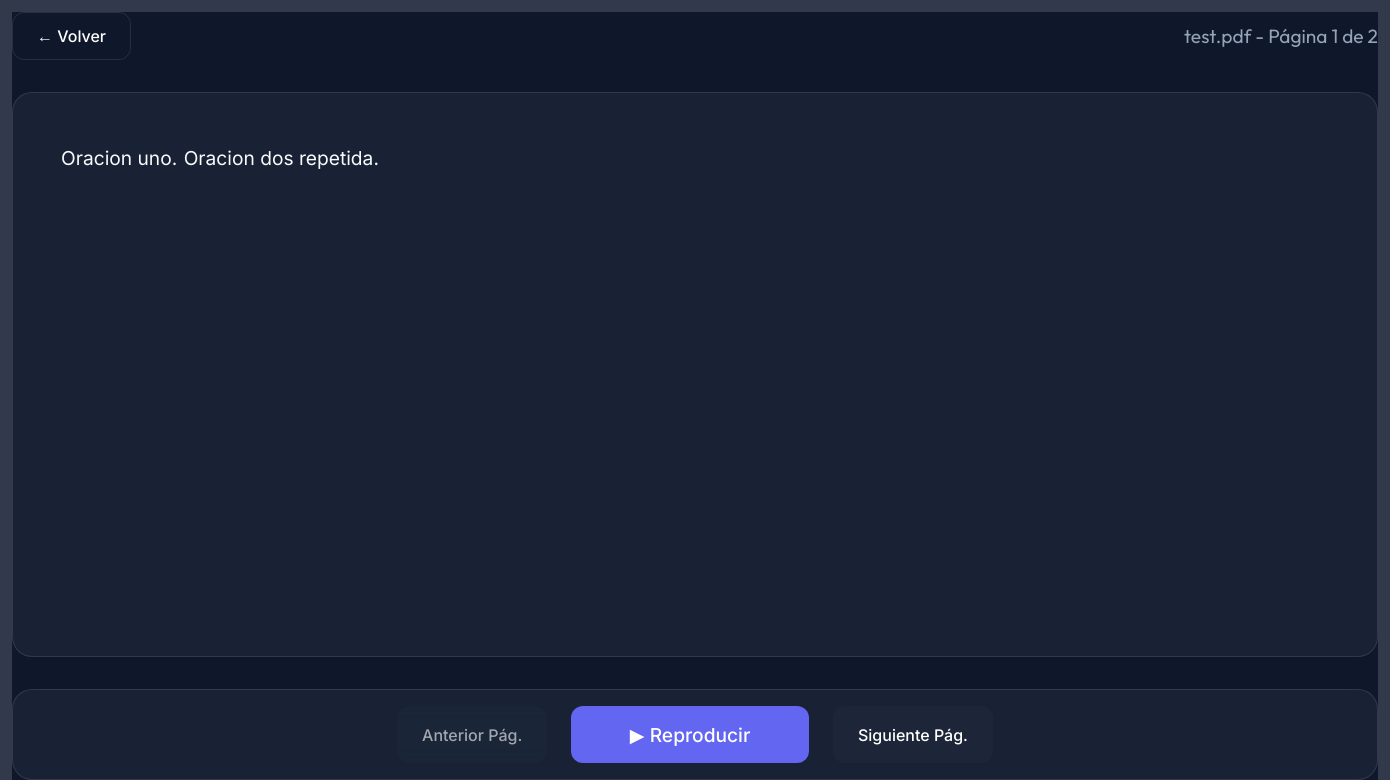
Test: Reader Component › paginates forwards and backwards correctly
Expected: the text "test.pdf - Página 1 de 2" is shown, x1=1184 y1=24 x2=1378 y2=48
Note: Click Next
What coordinates should you click on to do the following:
click the button "Siguiente Pág."
I would click on:
 (913, 735)
Its box is x1=833 y1=706 x2=993 y2=763.
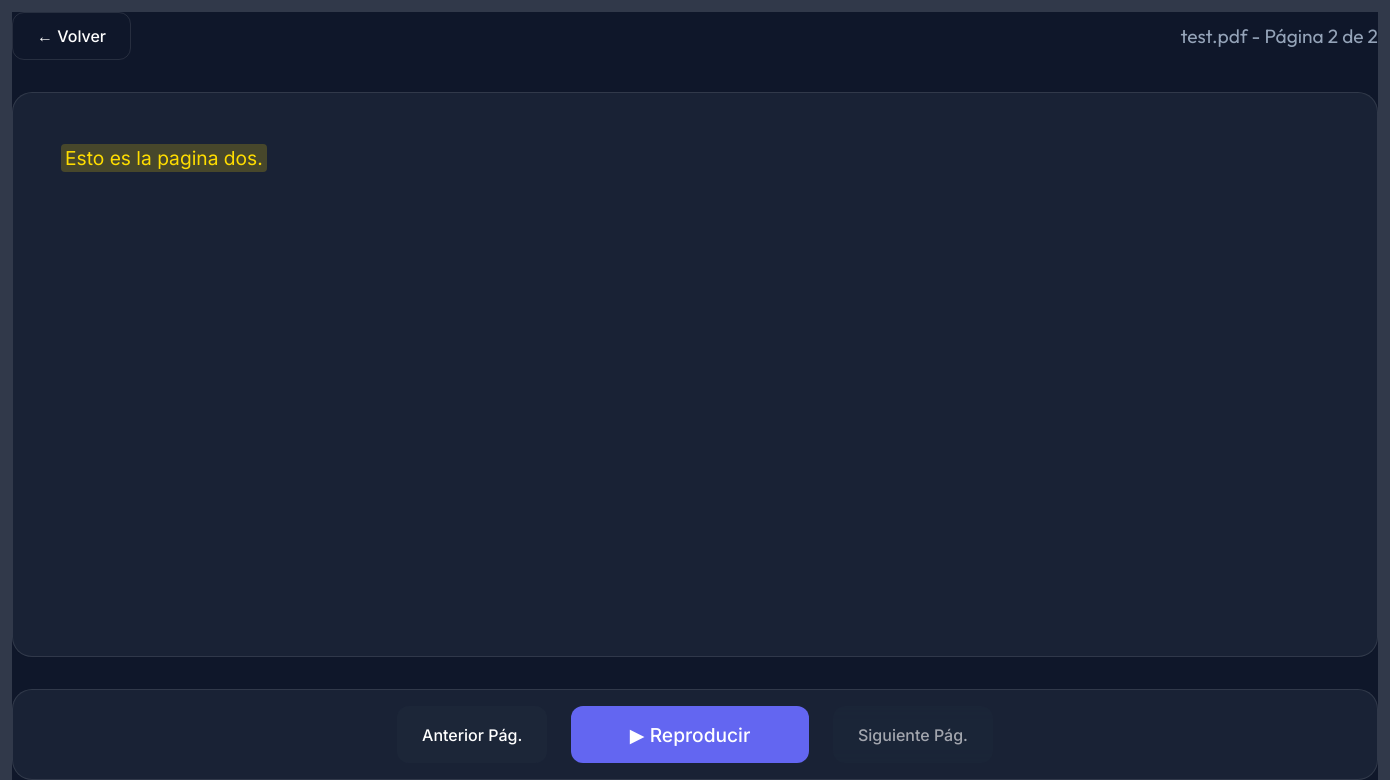
Result: the text "Esto es la pagina dos." is shown at x1=61 y1=144 x2=267 y2=172
Result: the text "test.pdf - Página 2 de 2" is shown at x1=1180 y1=24 x2=1378 y2=48
Note: Click Previous
What coordinates should you click on to do the following:
click the button "Anterior Pág."
I would click on:
 (472, 735)
Its box is x1=397 y1=706 x2=547 y2=763.
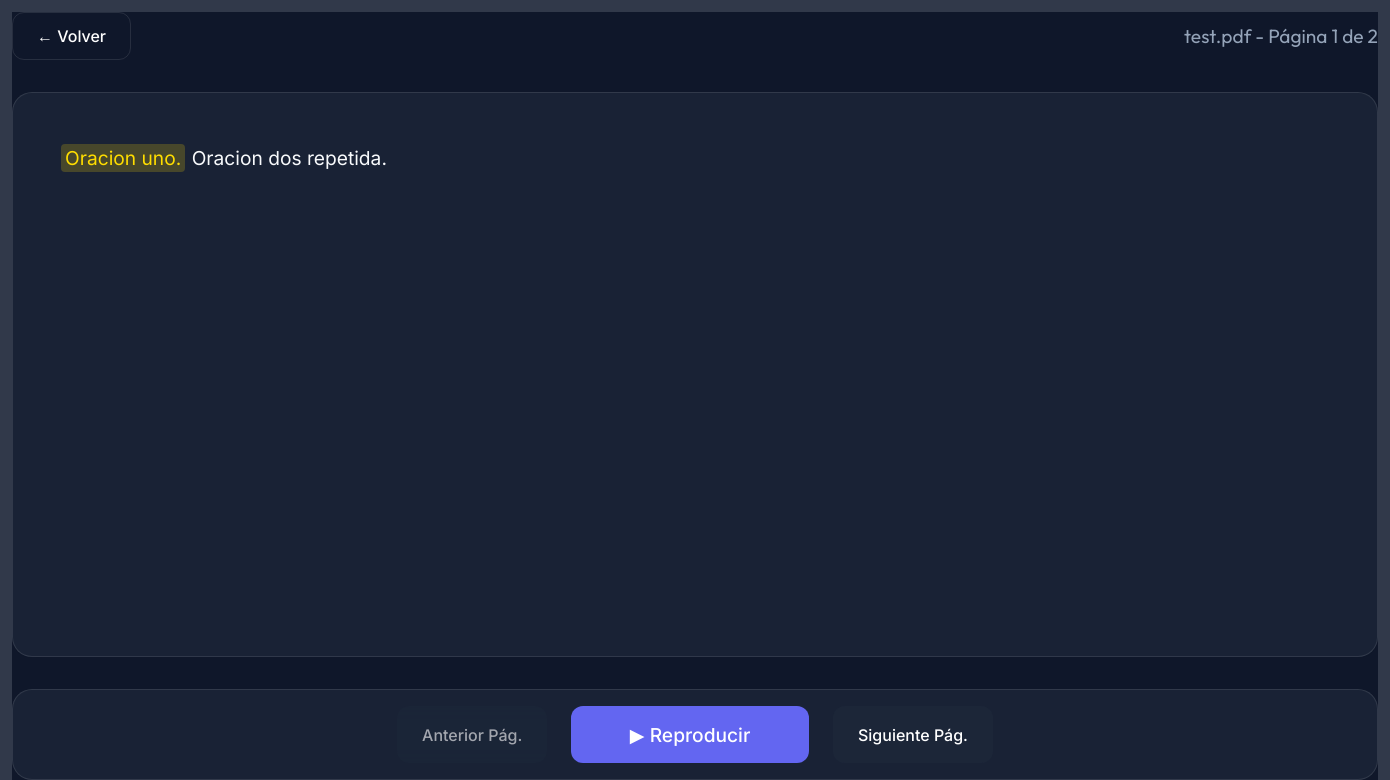
Result: the text "Oracion uno." is shown at x1=61 y1=144 x2=185 y2=172
